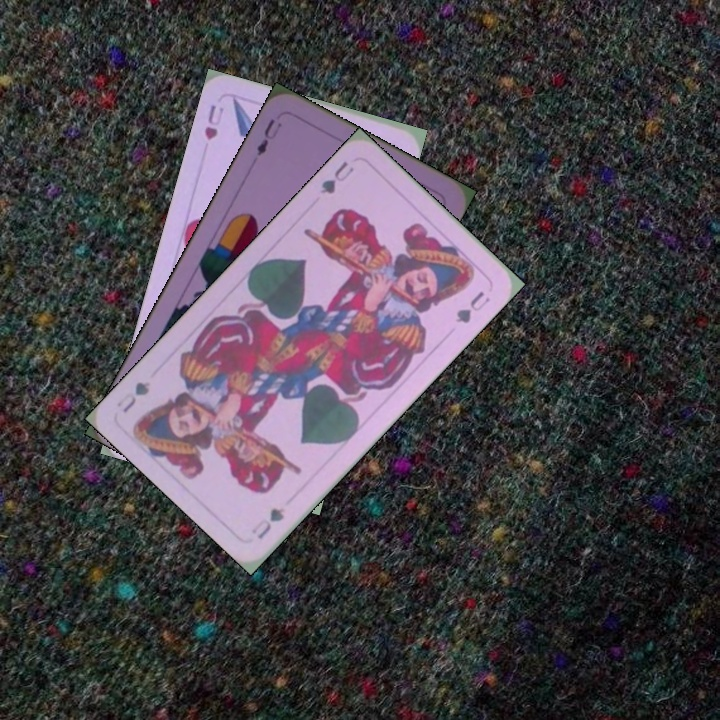EU: (252, 114, 285, 159)
GU: (316, 157, 357, 197), (247, 503, 287, 542)
HU: (200, 100, 227, 143)
